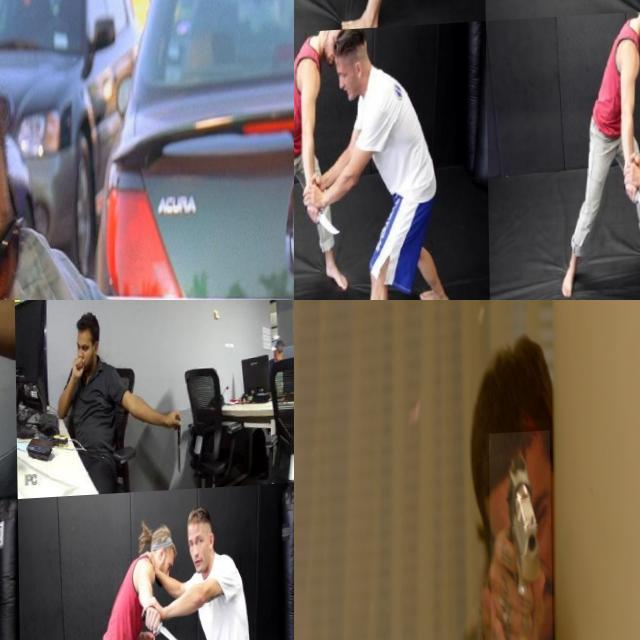-: (0, 300, 61, 329), (139, 611, 183, 640), (303, 207, 339, 240), (619, 184, 640, 223), (171, 429, 185, 482), (311, 0, 345, 17), (623, 0, 640, 15)
gun-knife-thesis - v11 Yolov5 augmented: (488, 435, 551, 640)
